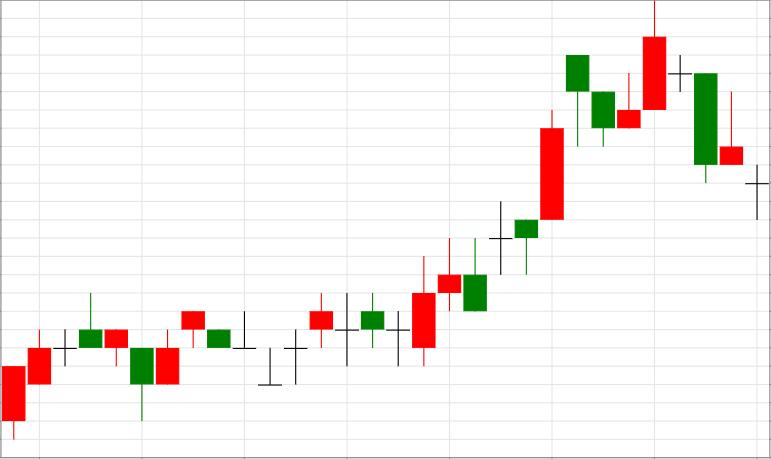hanging_man_fall: (413, 54, 588, 366)
